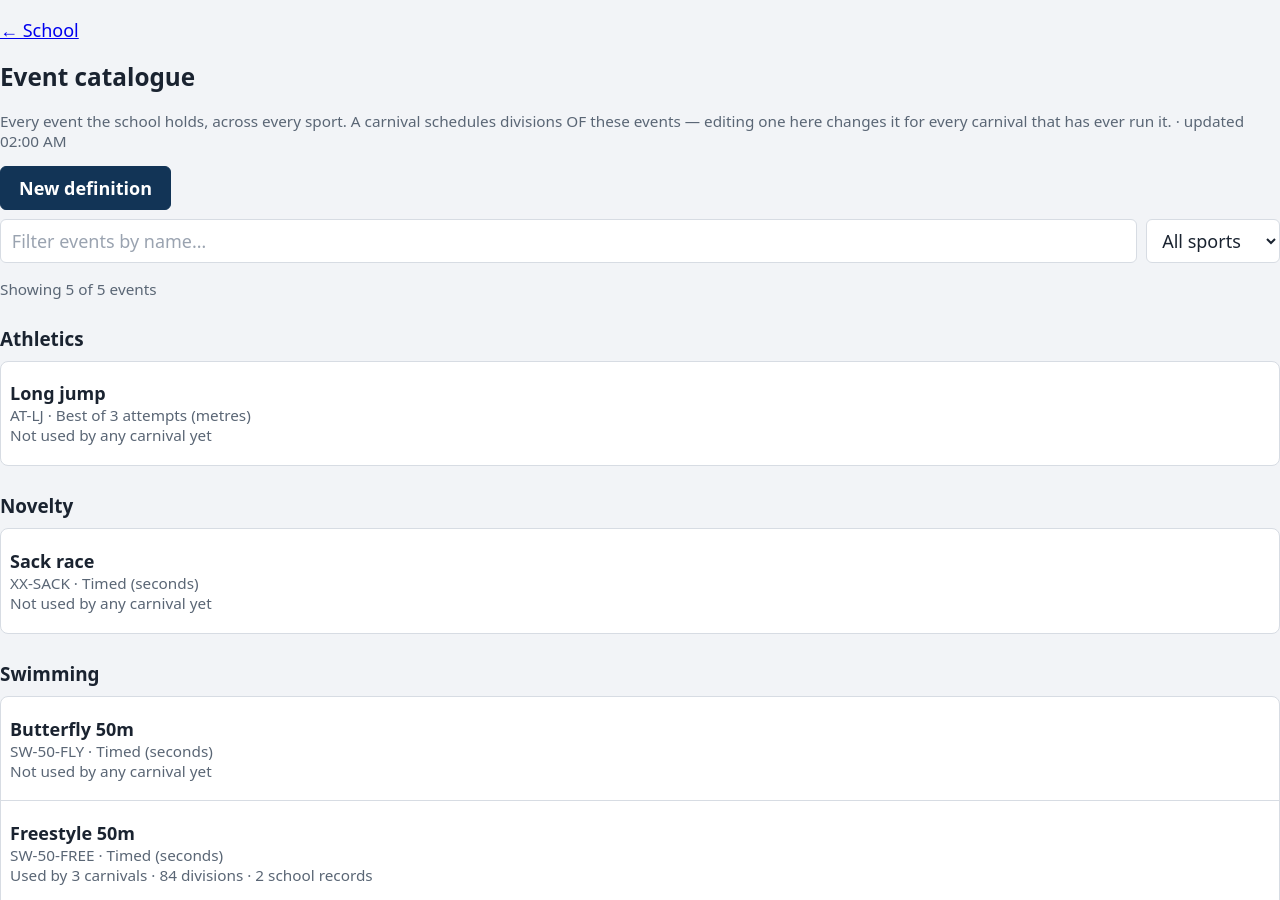
Test case: EventCatalogueScreen › narrows by sport and by name, and says how much is showing
Expected: the text "Long jump" is shown, x1=10 y1=381 x2=106 y2=405
Expected: the text "Showing 5 of 5 events" is shown, x1=0 y1=279 x2=157 y2=299
Step 1. Select "Swimming" in the dropdown named "Sport" → {"x": 1213, "y": 241}, box x1=1146 y1=219 x2=1279 y2=263
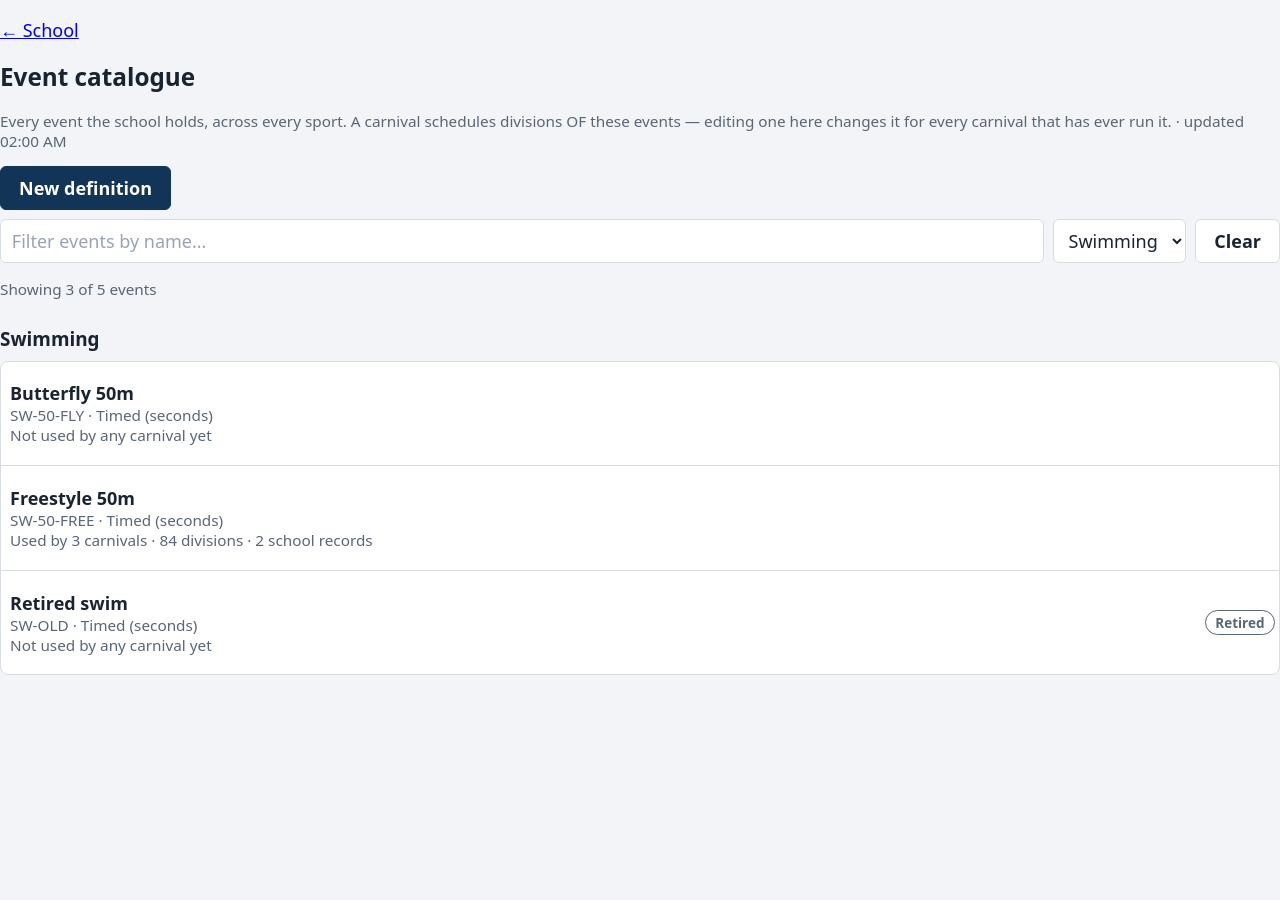
Expected: the text "Showing 3 of 5 events" is shown, x1=0 y1=279 x2=157 y2=299
Step 2. Type "fly" into the field labelled "Filter events by name" → {"x": 522, "y": 241}, box x1=0 y1=219 x2=1044 y2=263
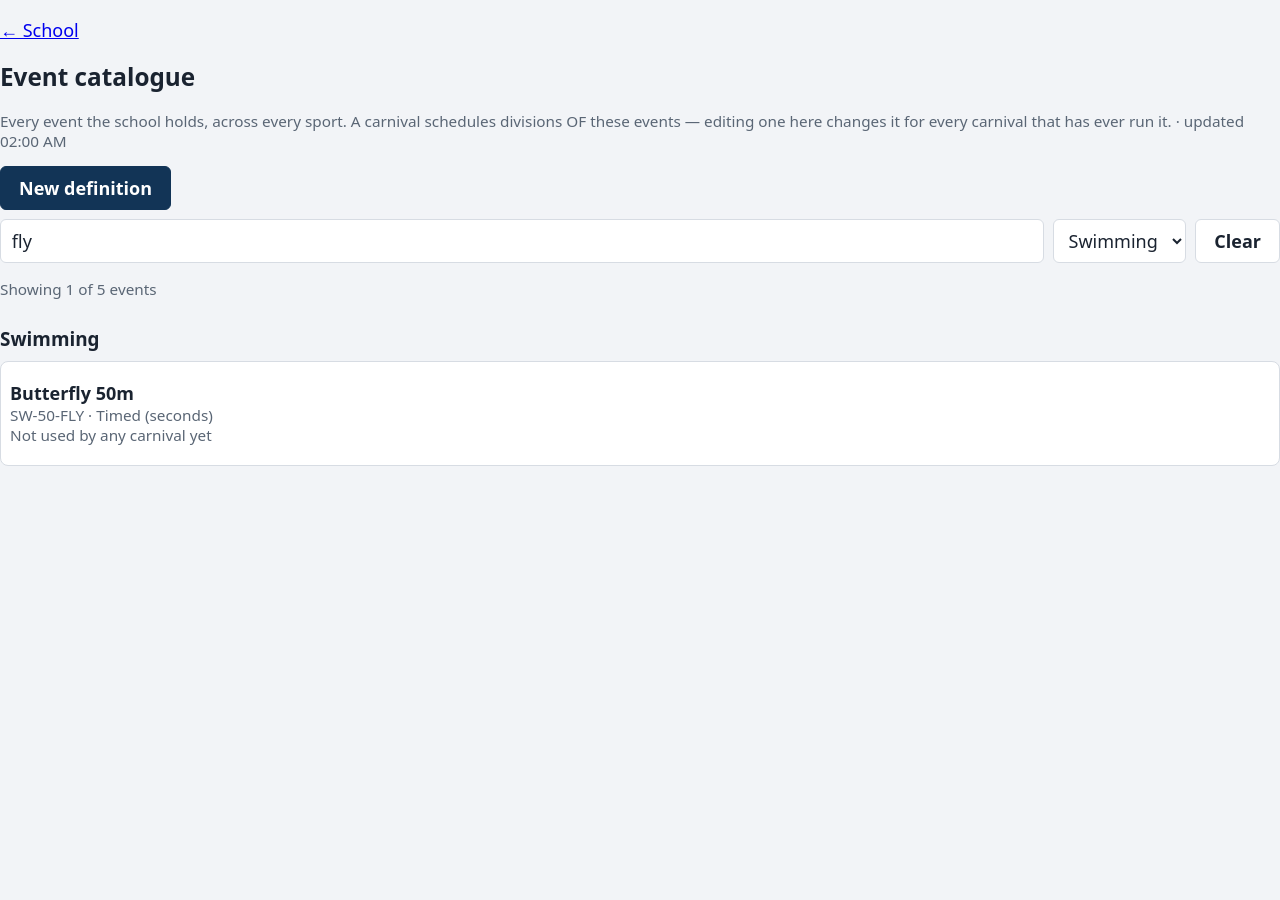
Step 3. Click the button "Clear" → {"x": 1238, "y": 241}, box x1=1195 y1=219 x2=1279 y2=263
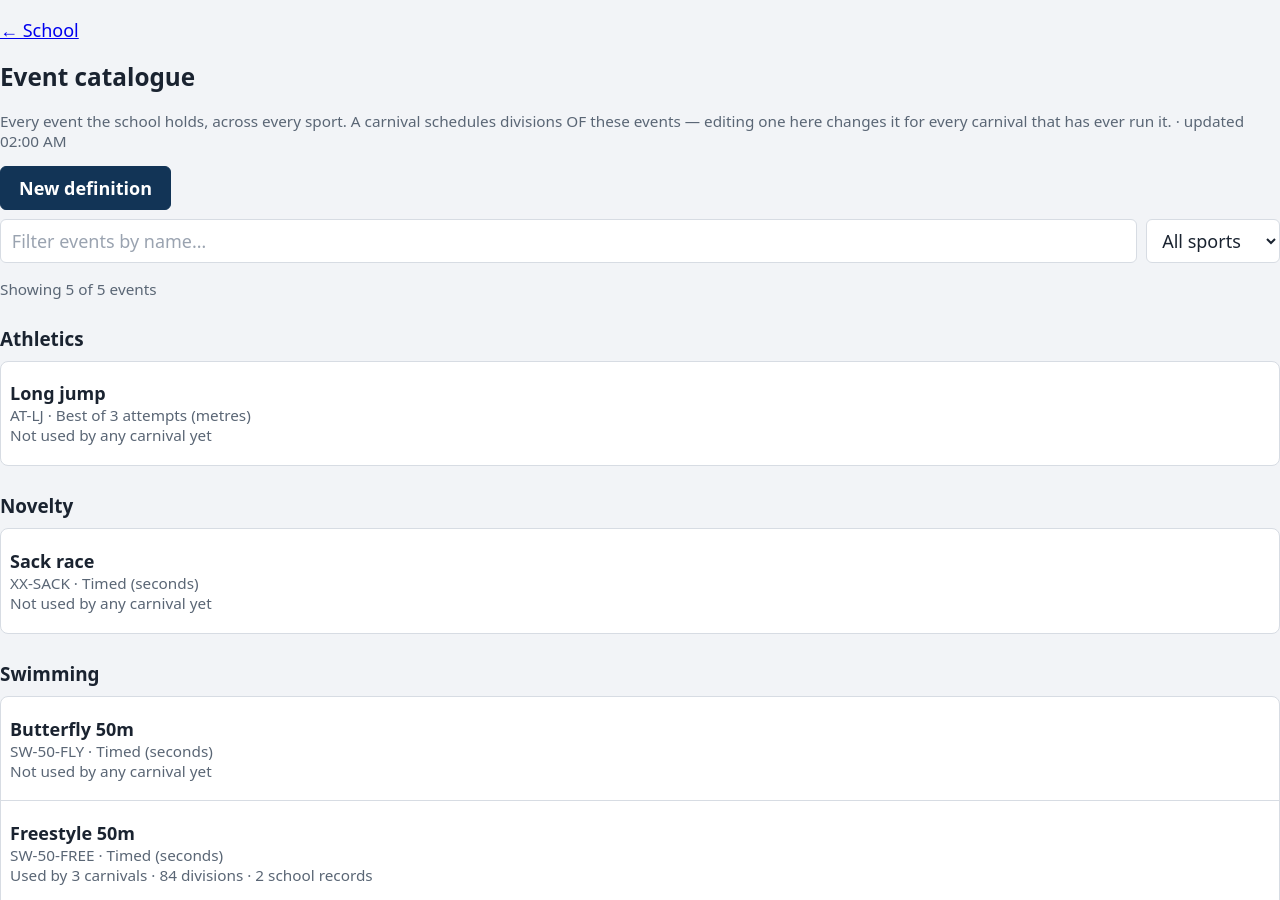
Expected: the text "Showing 5 of 5 events" is shown, x1=0 y1=279 x2=157 y2=299
